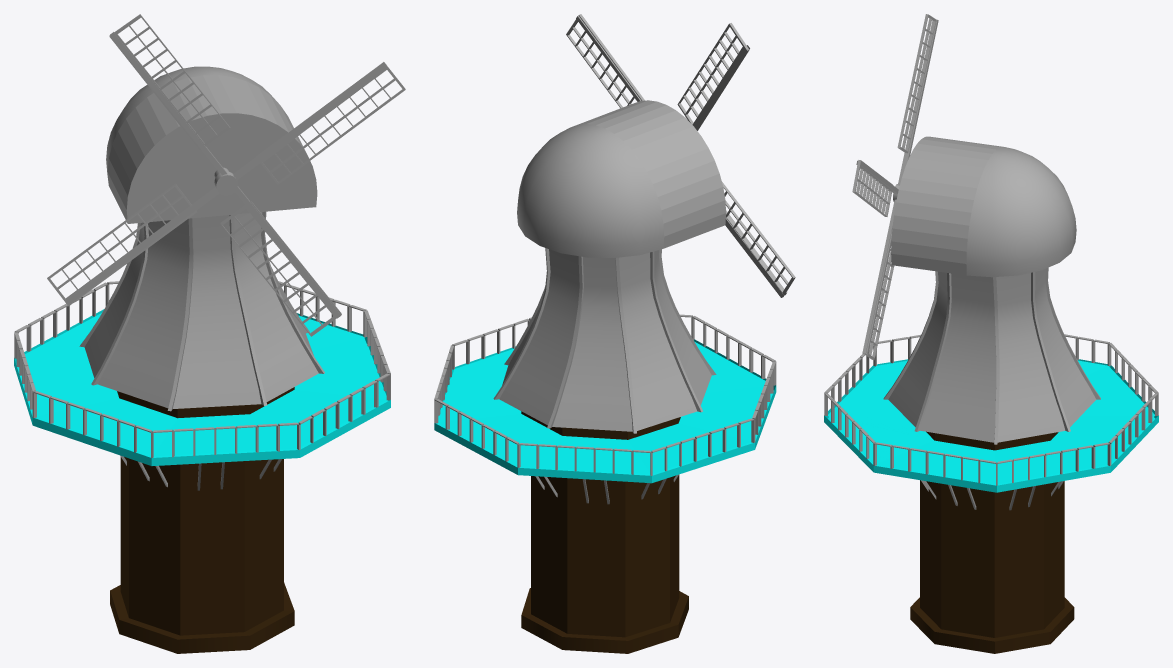
The model's file is modelExport.fbx.
3 renders of one model, left to right at view 1: azimuth 30°, elevation 25°; view 2: azimuth 150°, elevation 25°; view 3: azimuth 270°, elevation 25°, orthographic. The views are drawn at different scales.
Parts seen in each view (by area): view 1: Base, Middle, Top, handRail, polySurface10, polySurface9, polySurface7, polySurface11, polySurface8, polySurface12; view 2: Base, Middle, Top, handRail, polySurface11, polySurface12, polySurface9, polySurface10; view 3: Base, Middle, Top, handRail, polySurface11, polySurface8, polySurface7, polySurface9.
Boxes of the visible parts, bbox=[...] form: Base: bbox=[14, 309, 390, 653]; Middle: bbox=[79, 211, 324, 411]; Top: bbox=[106, 66, 317, 223]; handRail: bbox=[14, 281, 390, 457]; polySurface10: bbox=[65, 64, 388, 305]; polySurface9: bbox=[256, 62, 405, 184]; polySurface7: bbox=[220, 201, 341, 336]; polySurface11: bbox=[109, 14, 230, 150]; polySurface8: bbox=[110, 32, 341, 318]; polySurface12: bbox=[47, 184, 196, 306]; Base: bbox=[434, 339, 776, 653]; Middle: bbox=[493, 248, 716, 433]; Top: bbox=[517, 100, 725, 257]; handRail: bbox=[434, 314, 776, 475]; polySurface11: bbox=[677, 23, 749, 130]; polySurface12: bbox=[722, 182, 795, 297]; polySurface9: bbox=[566, 14, 644, 108]; polySurface10: bbox=[576, 15, 786, 296]; Base: bbox=[824, 359, 1158, 653]; Middle: bbox=[883, 267, 1100, 444]; Top: bbox=[891, 136, 1076, 277]; handRail: bbox=[824, 334, 1158, 485]; polySurface11: bbox=[897, 14, 936, 153]; polySurface8: bbox=[862, 19, 938, 354]; polySurface7: bbox=[863, 219, 894, 359]; polySurface9: bbox=[852, 160, 892, 216].
Bounding box in the file's own units: 9.02 × 16.09 × 8.66.
